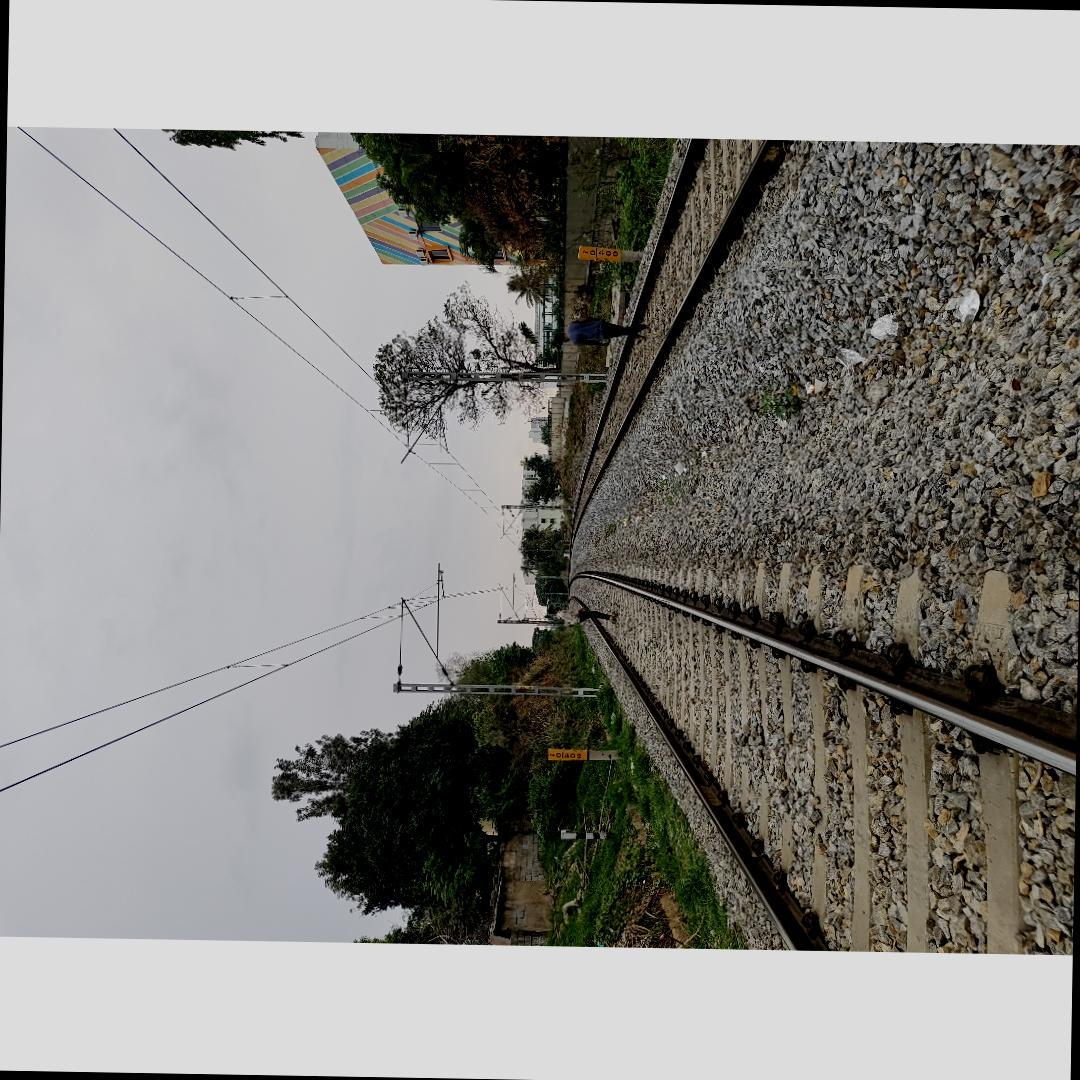standing: (552, 314, 648, 348), (546, 604, 614, 626)
track: (567, 564, 1077, 954), (569, 137, 825, 575)
